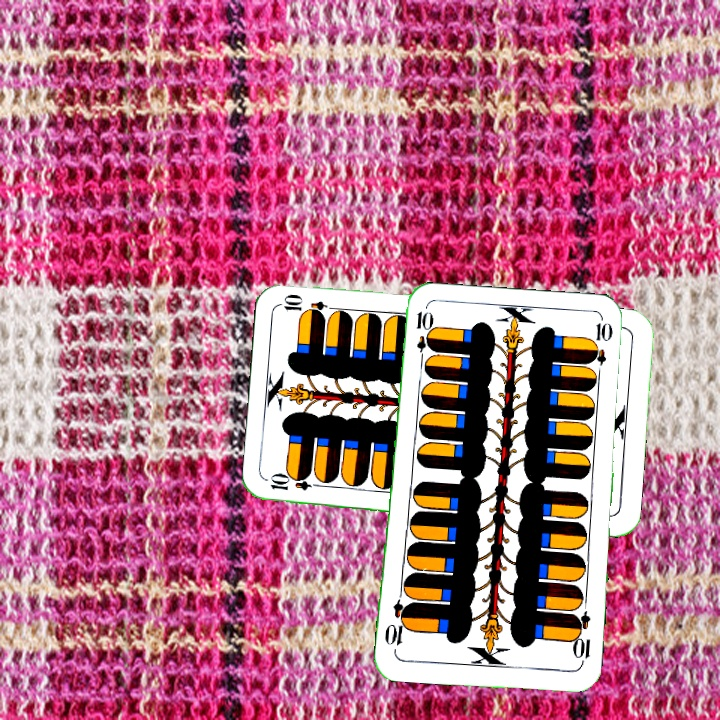E10: (568, 608, 593, 668), (412, 307, 431, 366), (266, 475, 326, 493)
